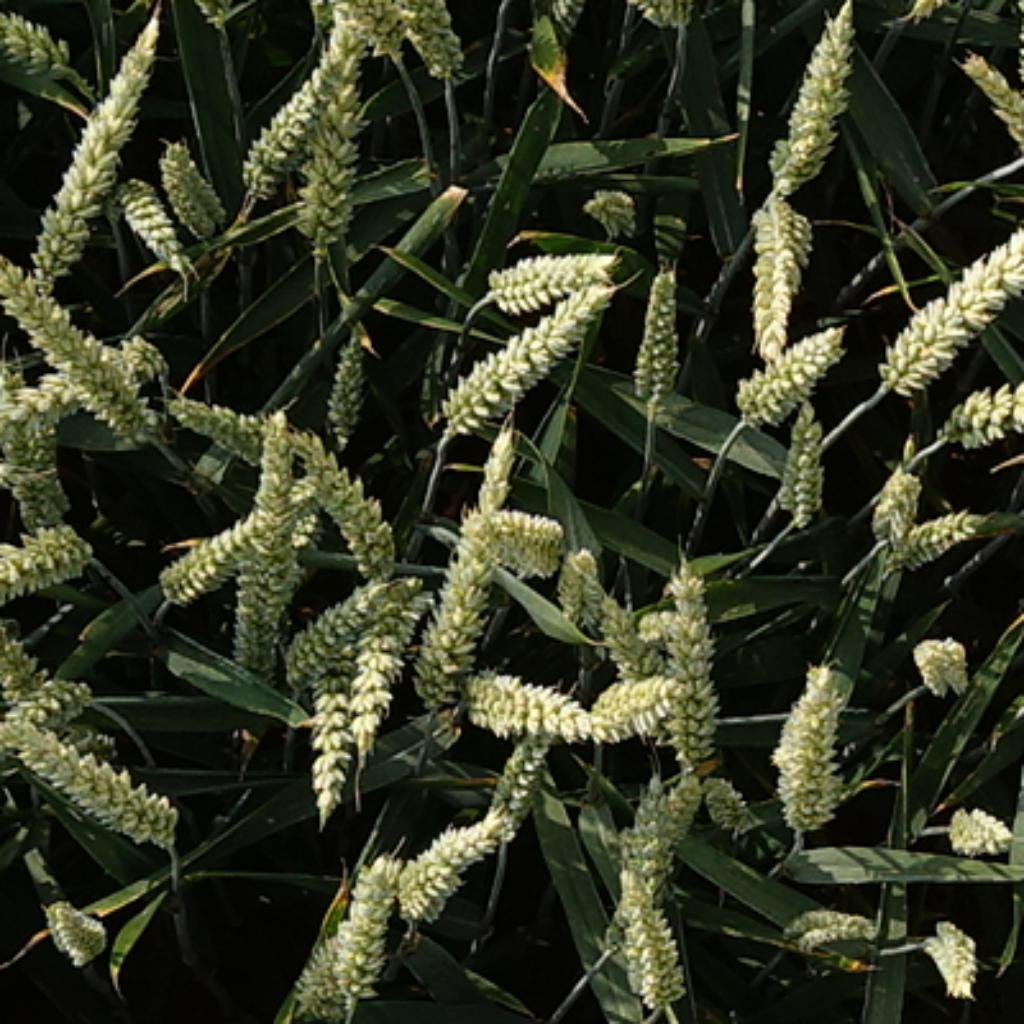0-0: (28, 23, 168, 276), (430, 281, 616, 437), (414, 417, 519, 691), (0, 713, 187, 864), (873, 218, 1024, 396), (2, 261, 153, 430), (596, 765, 706, 962), (156, 478, 312, 614), (235, 28, 348, 212), (768, 2, 870, 194), (231, 409, 297, 703), (289, 30, 376, 250), (355, 563, 430, 803), (386, 796, 524, 926), (289, 566, 429, 688), (768, 647, 857, 832), (486, 683, 586, 842), (657, 545, 727, 770), (289, 430, 401, 568), (7, 331, 156, 428), (739, 181, 816, 358), (583, 581, 673, 727), (2, 358, 79, 527), (729, 314, 849, 422), (330, 852, 412, 1006), (611, 783, 668, 1003), (619, 857, 688, 1008), (107, 161, 197, 271), (627, 261, 691, 412), (485, 243, 623, 312), (166, 381, 281, 460), (307, 657, 358, 832), (289, 913, 373, 1018), (455, 491, 565, 570), (453, 680, 596, 737), (770, 404, 834, 529), (2, 527, 99, 606), (158, 137, 233, 239), (880, 496, 985, 565), (583, 670, 691, 737), (5, 655, 102, 727), (966, 40, 1024, 158), (947, 368, 1024, 453), (2, 2, 76, 87), (399, 2, 481, 76), (778, 893, 883, 949), (38, 883, 112, 962), (322, 330, 373, 442), (919, 919, 985, 1003), (862, 458, 926, 540), (552, 540, 611, 616), (329, 0, 406, 55), (906, 624, 972, 688), (2, 627, 56, 704), (944, 806, 1018, 862), (637, 609, 714, 657), (696, 762, 750, 826), (578, 176, 640, 230), (622, 2, 689, 26), (906, 2, 952, 30), (552, 2, 586, 35)
